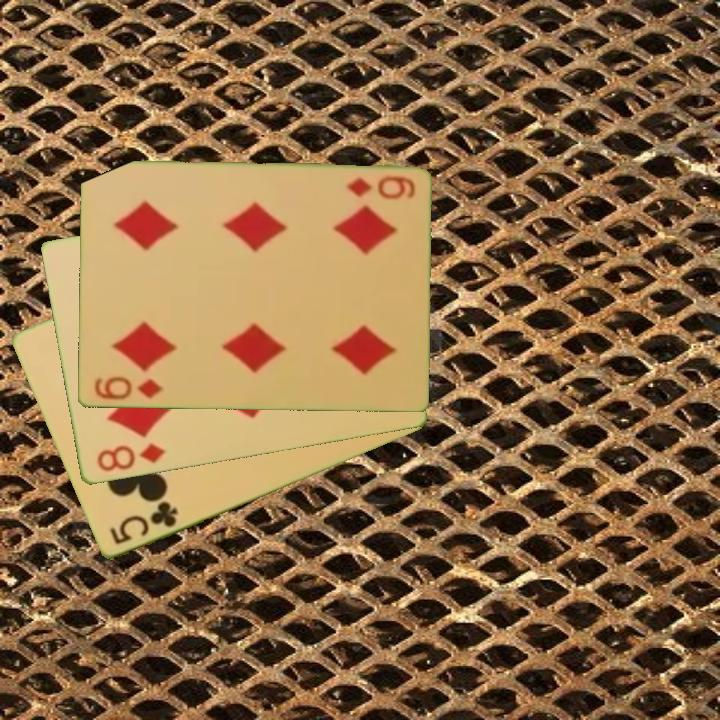5c: (106, 498, 181, 548)
6d: (342, 172, 417, 203), (90, 374, 165, 403)
8d: (93, 440, 168, 475)
